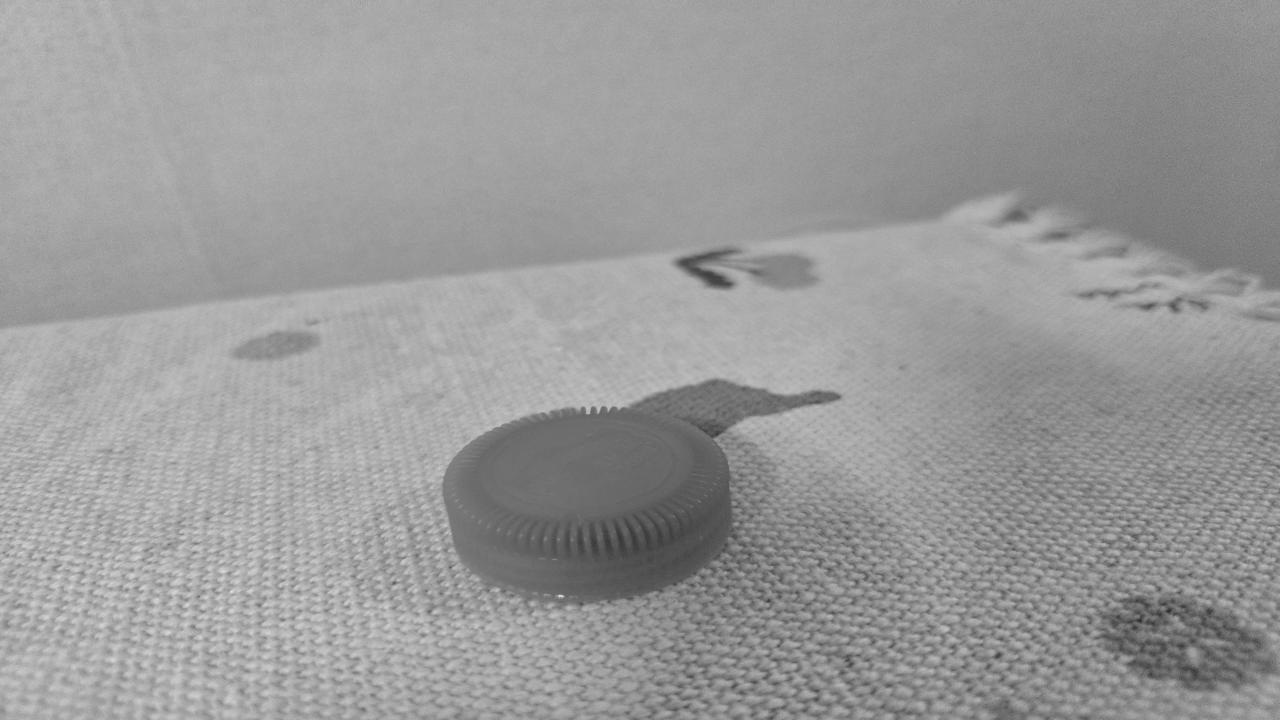bottle_cap: (439, 403, 742, 602)
